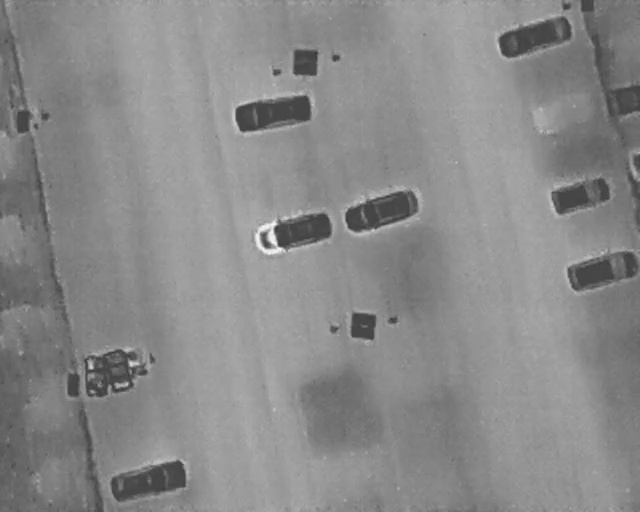Car: (248, 202, 337, 261), (339, 181, 423, 240), (493, 8, 576, 63), (107, 454, 190, 504), (232, 90, 314, 134), (566, 248, 639, 293), (546, 171, 614, 219), (606, 84, 640, 120)
